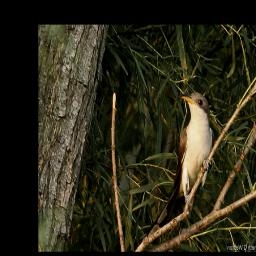Cuckoo: (144, 91, 215, 242)
